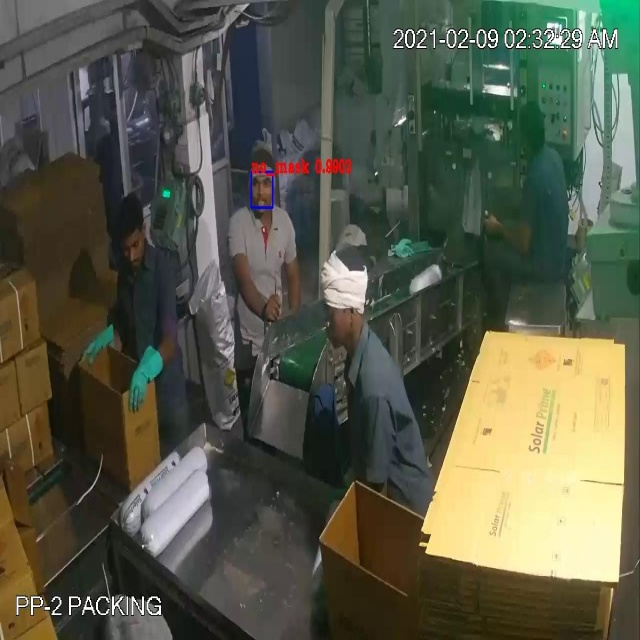Guantes: (124, 345, 173, 415), (77, 318, 122, 372)
Sin_guantes: (228, 248, 284, 327), (479, 187, 533, 263), (282, 248, 305, 313)
